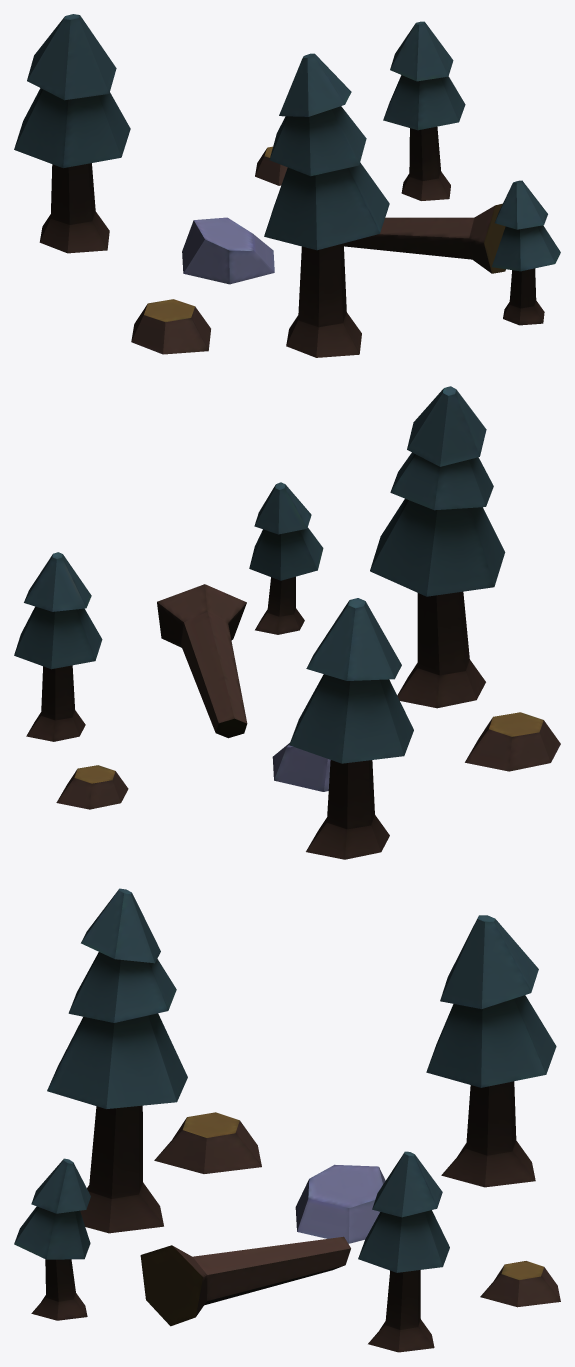
The model's file is tile_wood_6_lod0.fbx.
The picture shows the model from 3 angles, top to bottom: view 1: azimuth 30°, elevation 25°; view 2: azimuth 150°, elevation 25°; view 3: azimuth 270°, elevation 25°; orthographic projection. The views are drawn at different scales.
Parts seen in each view (by area): view 1: wood_6_lod0; view 2: wood_6_lod0; view 3: wood_6_lod0.
Boxes of the visible parts, box(x1,y1,x2,y2) form: wood_6_lod0: box(14, 14, 560, 357); wood_6_lod0: box(14, 386, 560, 859); wood_6_lod0: box(14, 888, 560, 1352).
Bounding box in the file's own units: 0.0477 × 0.0315 × 0.0488.
